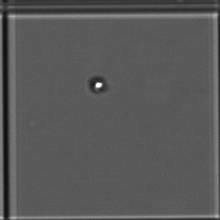Living Cell: (87, 75, 109, 93)
